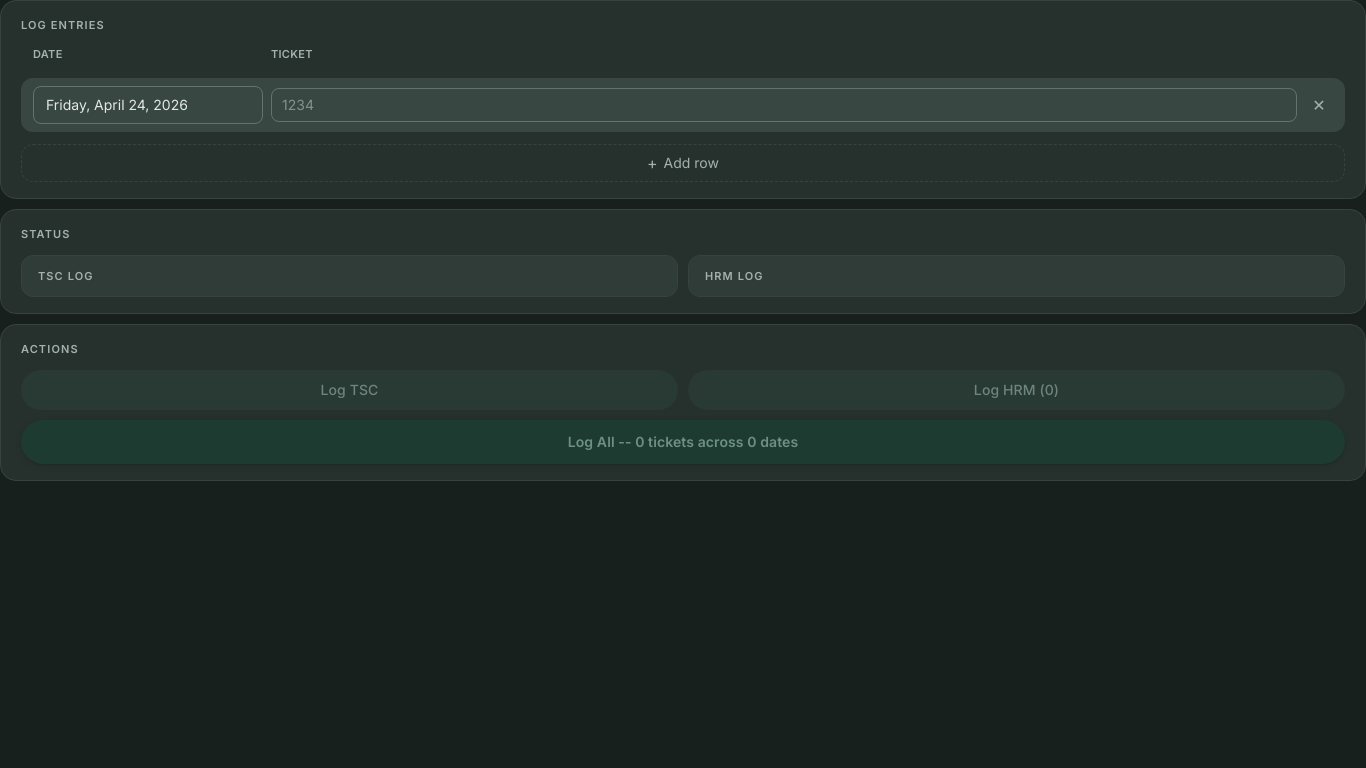
Test case: LogForm -- row management › removes a row on X click
Click the button "+ Add row" at (683, 163), box left=21, top=144, right=1345, bottom=182
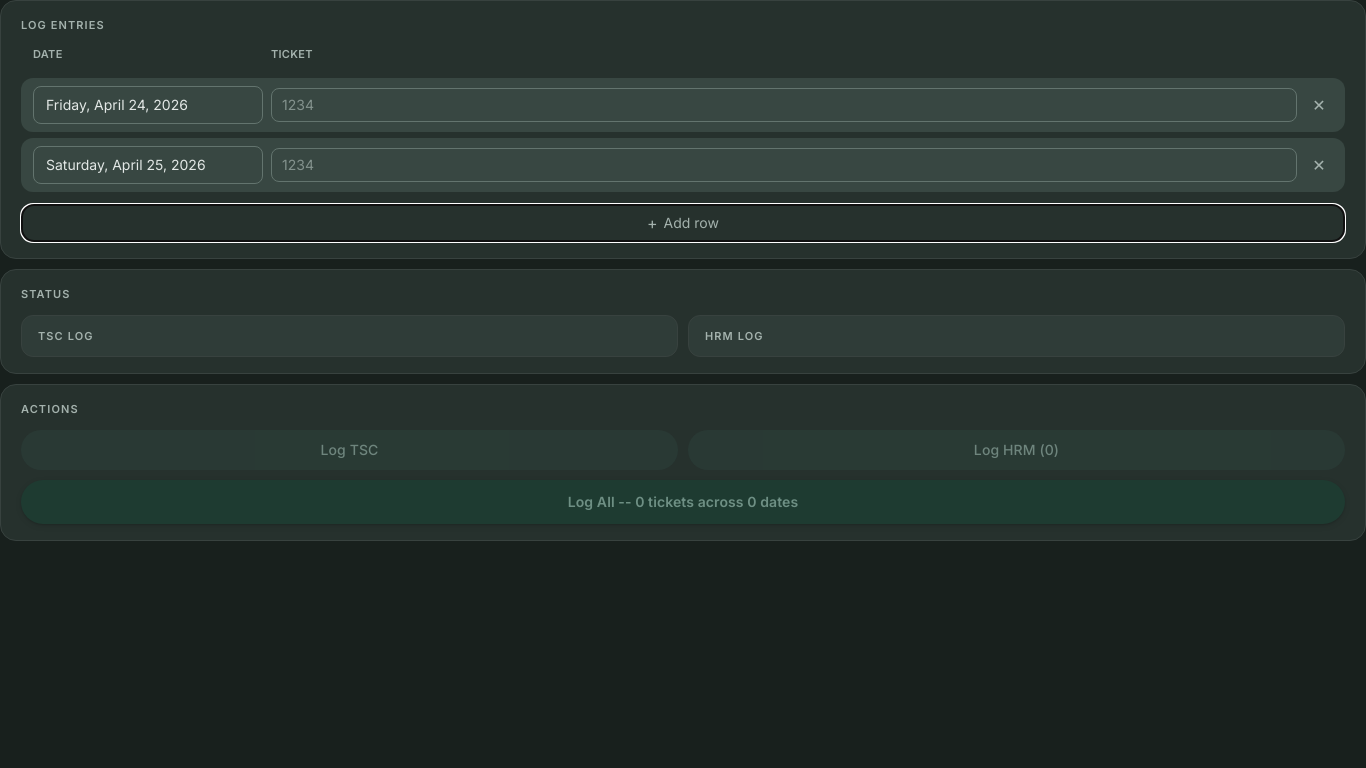
expect the number of fields with placeholder "1234" is 2: met, box left=271, top=88, right=1297, bottom=122; left=271, top=148, right=1297, bottom=182
Click the button named "remove row" at (1319, 105), box left=1305, top=89, right=1333, bottom=121
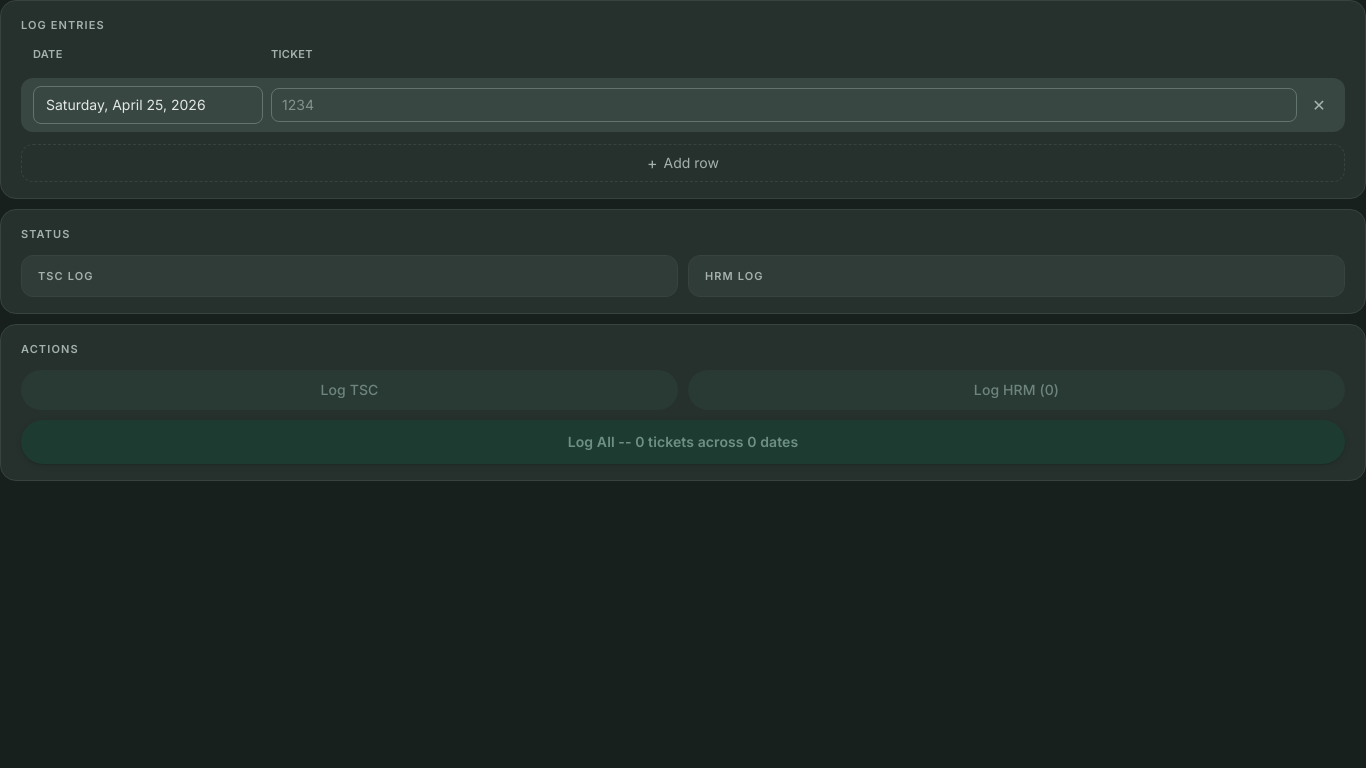
expect the number of fields with placeholder "1234" is 1: met, box left=271, top=88, right=1297, bottom=122
